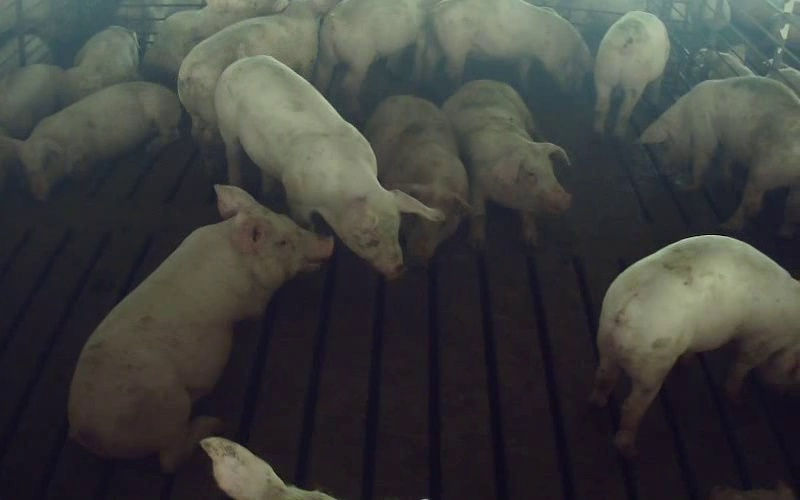pig: (70, 186, 332, 470), (215, 55, 442, 277), (591, 236, 799, 455), (641, 76, 799, 229), (443, 80, 570, 245), (19, 81, 180, 198), (365, 95, 470, 263), (425, 0, 591, 92), (594, 11, 669, 137), (63, 26, 138, 104)
